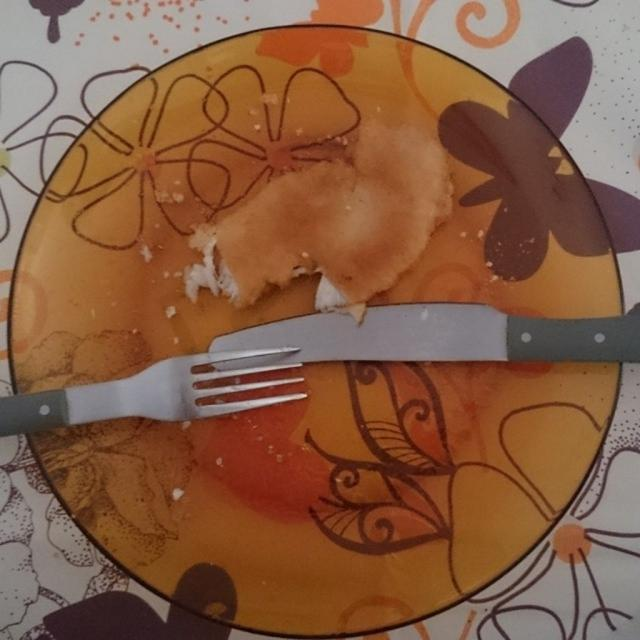non-organic waste: (13, 39, 634, 640)
